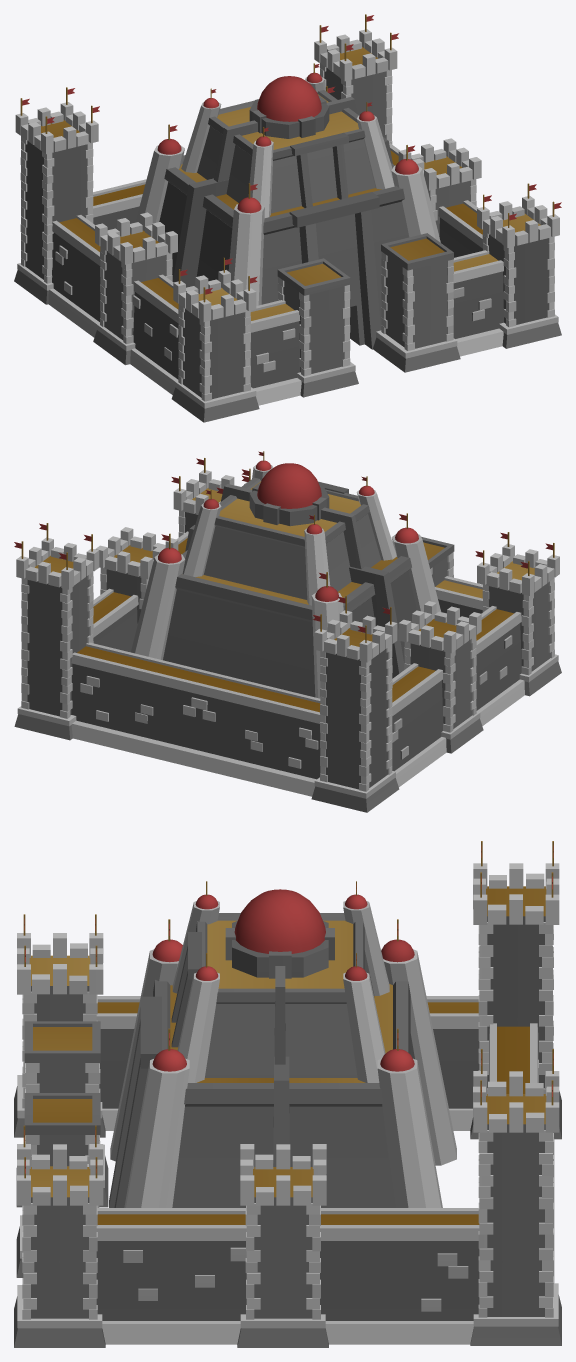
File: WonderSecondAge3.glb
3 renders of one model, top to bottom at view 1: azimuth 30°, elevation 25°; view 2: azimuth 150°, elevation 25°; view 3: azimuth 270°, elevation 25°, orthographic. The views are drawn at different scales.
Parts seen in each view (by area): view 1: Wonder_SecondAge_Level3; view 2: Wonder_SecondAge_Level3; view 3: Wonder_SecondAge_Level3.
Part boxes in pixels (x1,y1,x2,y2): Wonder_SecondAge_Level3: (14, 14, 561, 422); Wonder_SecondAge_Level3: (14, 451, 561, 812); Wonder_SecondAge_Level3: (14, 841, 561, 1347).
Bounding box in the file's own units: 7.42 × 4.72 × 6.83.
Materials: 1 (1 with a texture image).
